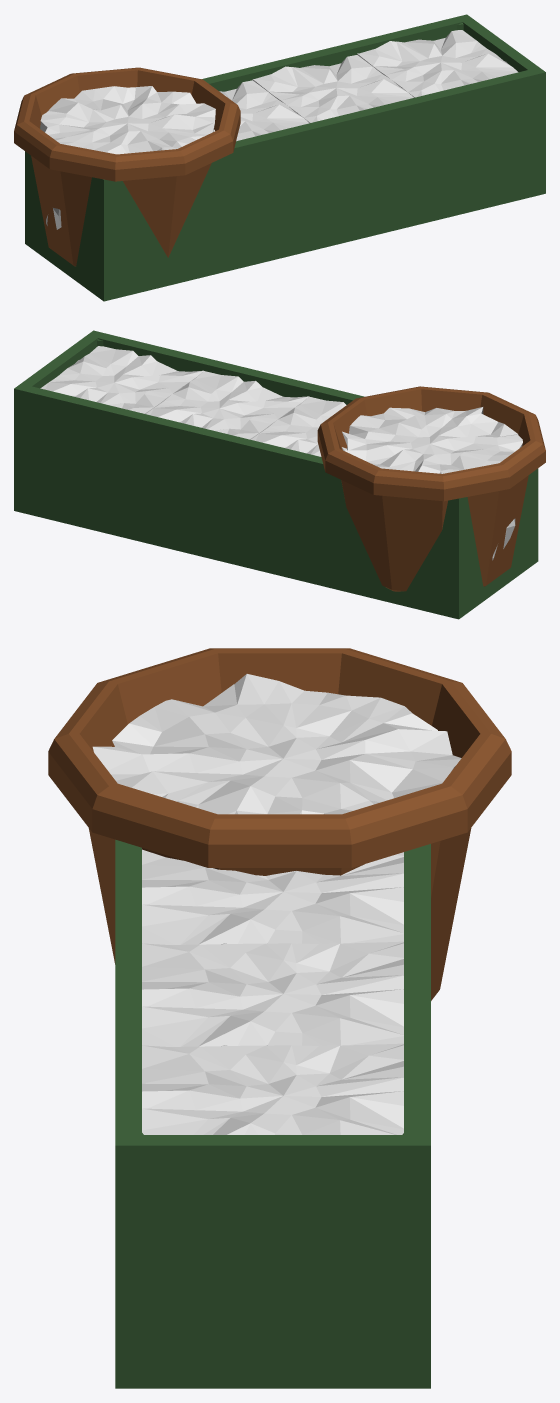
The model's file is DirtPot.fbx.
3 views of the same model, one above another, from view 1: azimuth 30°, elevation 25°; view 2: azimuth 150°, elevation 25°; view 3: azimuth 270°, elevation 25° (orthographic). The views are drawn at different scales.
Parts seen in each view (by area): view 1: PlotWithDirt, Pot, Plot, DirtPot, PotWithDirt; view 2: Plot, Pot, PlotWithDirt, DirtPot, PotWithDirt; view 3: PlotWithDirt, Plot, Pot, DirtPot, PotWithDirt.
Part boxes in pixels (left/top/right/bottom): PlotWithDirt: left=25, top=14, right=545, bottom=301; Pot: left=14, top=67, right=240, bottom=266; Plot: left=26, top=16, right=542, bottom=298; DirtPot: left=40, top=86, right=215, bottom=154; PotWithDirt: left=40, top=86, right=215, bottom=153; Plot: left=17, top=332, right=537, bottom=616; Pot: left=317, top=386, right=545, bottom=591; PlotWithDirt: left=14, top=330, right=538, bottom=619; DirtPot: left=344, top=407, right=522, bottom=473; PotWithDirt: left=342, top=407, right=522, bottom=473; PlotWithDirt: left=115, top=839, right=430, bottom=1388; Plot: left=119, top=841, right=427, bottom=1385; Pot: left=48, top=648, right=511, bottom=1000; DirtPot: left=92, top=674, right=461, bottom=814; PotWithDirt: left=94, top=674, right=459, bottom=814.
Bounding box in the file's own units: 898 × 260 × 381.
